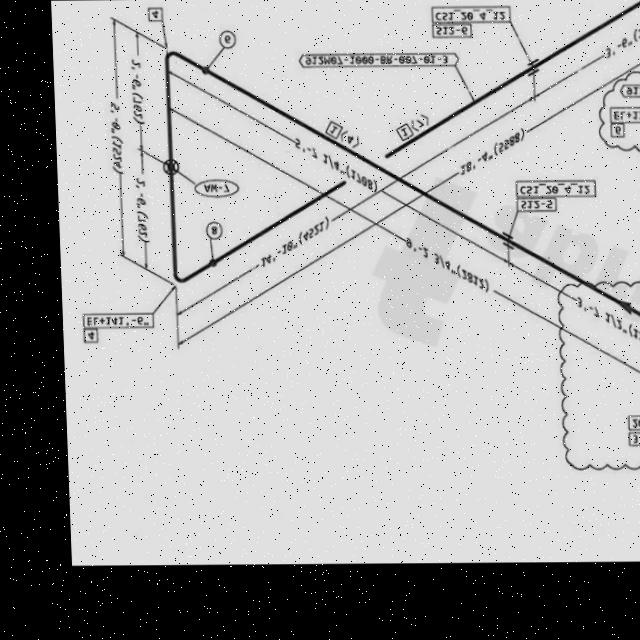Item number: (429, 23, 473, 40), (513, 196, 556, 213), (321, 118, 344, 140), (392, 121, 413, 143), (608, 123, 624, 140), (624, 430, 639, 448), (79, 327, 95, 343), (146, 6, 161, 23)
Measrement: (374, 228, 640, 385), (405, 25, 640, 176), (171, 194, 365, 324), (300, 144, 477, 249), (103, 19, 131, 266), (129, 145, 152, 272), (126, 26, 148, 152), (623, 413, 640, 431)
Pipeline: (157, 41, 640, 326)
Weld number: (190, 178, 239, 199), (202, 220, 223, 243), (217, 28, 236, 51)
other: (297, 52, 457, 68), (512, 179, 596, 199), (428, 3, 512, 23)
